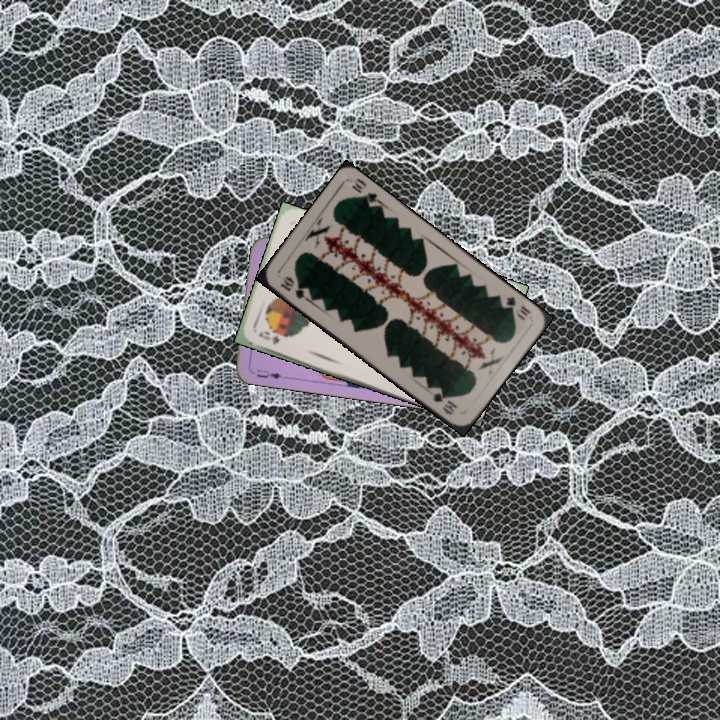EU: (248, 365, 288, 382)
G10: (276, 272, 310, 303), (502, 292, 534, 320)
SO: (255, 327, 282, 347)
